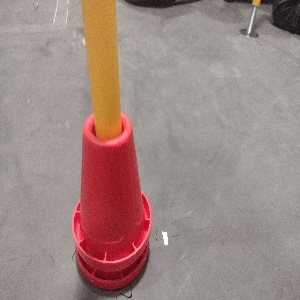Red_2: (65, 111, 152, 289)
